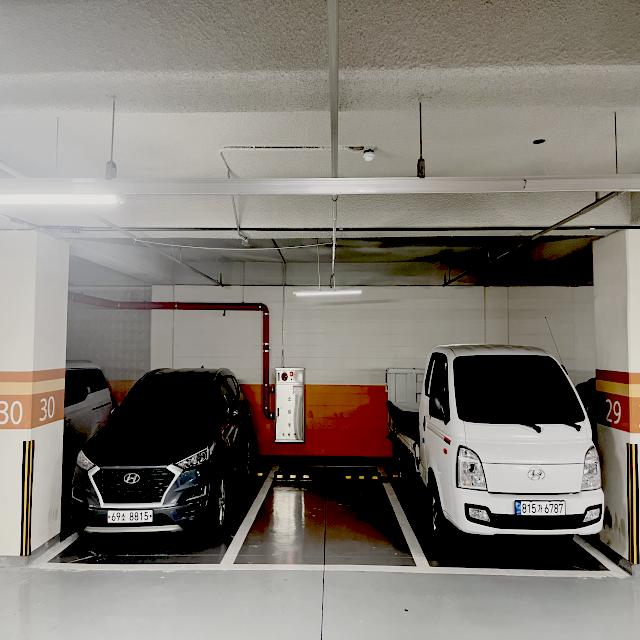empty: (216, 464, 434, 575)
occupied: (420, 328, 633, 592), (65, 356, 239, 575)
